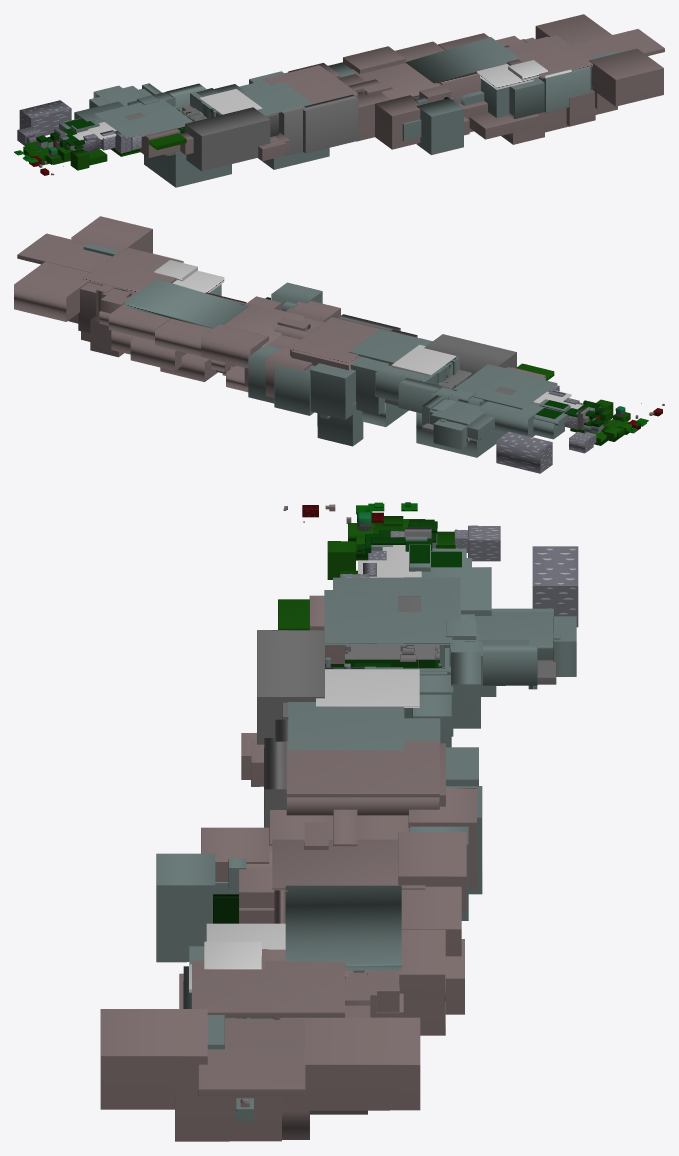
File: Level5NoCollidersCombinedFinal2.fbx
3 renders of one model, top to bottom at view 1: azimuth 30°, elevation 25°; view 2: azimuth 150°, elevation 25°; view 3: azimuth 270°, elevation 25°, orthographic. The views are drawn at different scales.
Visible parts, largest first — view 1: polySurface219, polySurface48, polySurface392, polySurface216, polySurface393; view 2: polySurface48, polySurface219, polySurface392, polySurface216, polySurface393; view 3: polySurface219, polySurface48, polySurface392, polySurface216, polySurface393.
Boxes of the visible parts, x1,y1,x2,y2 form: polySurface219: (395,33,592,154); polySurface48: (239,46,440,169); polySurface392: (89,83,285,187); polySurface216: (523,14,664,126); polySurface393: (14,100,131,175); polySurface48: (201,300,432,446); polySurface219: (83,247,322,381); polySurface392: (375,334,557,457); polySurface216: (14,216,180,341); polySurface393: (480,385,664,473); polySurface219: (156,845,464,1035); polySurface48: (201,702,482,920); polySurface392: (241,577,576,779); polySurface216: (100,964,420,1141); polySurface393: (283,502,578,627).
Bounding box in the file's own units: 648 × 79.51 × 225.
